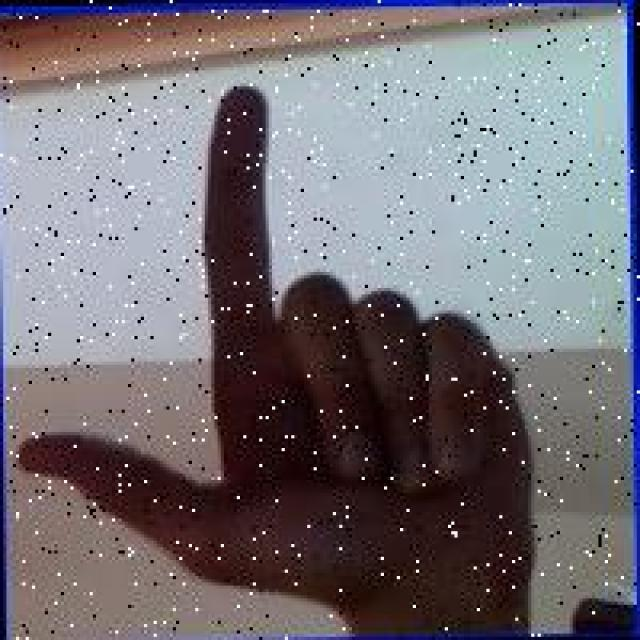L: (8, 74, 546, 598)
